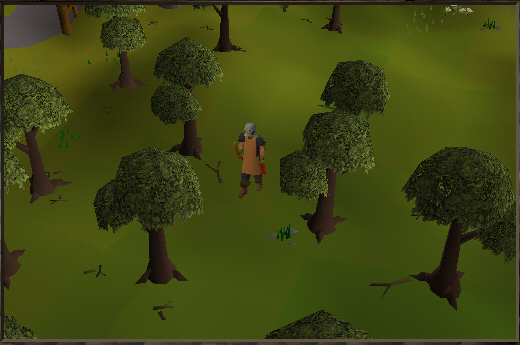Tree: (408, 143, 519, 314), (93, 146, 210, 293), (287, 114, 365, 241), (1, 61, 66, 209), (157, 44, 216, 154), (100, 13, 143, 84)
